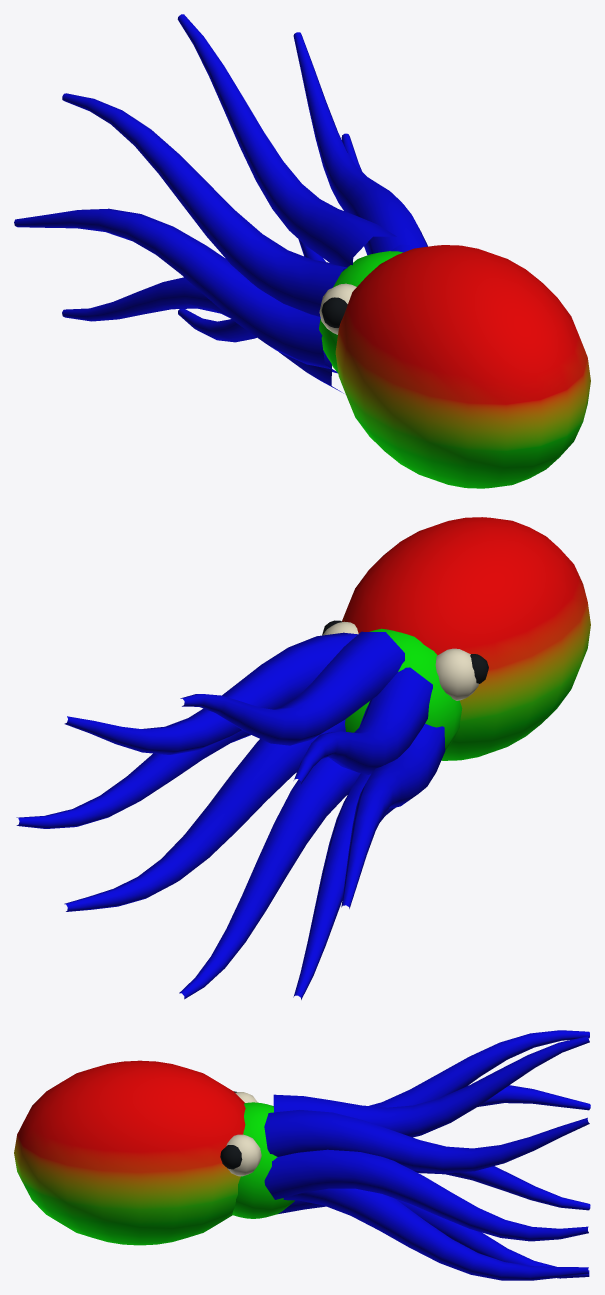
Rendered from fish_octopus.glb.
3 renders of one model, top to bottom at view 1: azimuth 30°, elevation 25°; view 2: azimuth 150°, elevation 25°; view 3: azimuth 270°, elevation 25°, orthographic. The views are drawn at different scales.
Visible parts, largest first — view 1: Body, Eye; view 2: Body, Eye; view 3: Body, Eye.
Part boxes in pixels (x1=…): Body: x1=14, y1=14, x2=590, y2=488; Eye: x1=319, y1=283, x2=356, y2=334; Body: x1=16, y1=517, x2=590, y2=999; Eye: x1=322, y1=620, x2=488, y2=700; Body: x1=14, y1=1030, x2=590, y2=1280; Eye: x1=220, y1=1091, x2=261, y2=1176.
Bounding box in the file's own units: 0.7347 × 0.6352 × 1.37.
